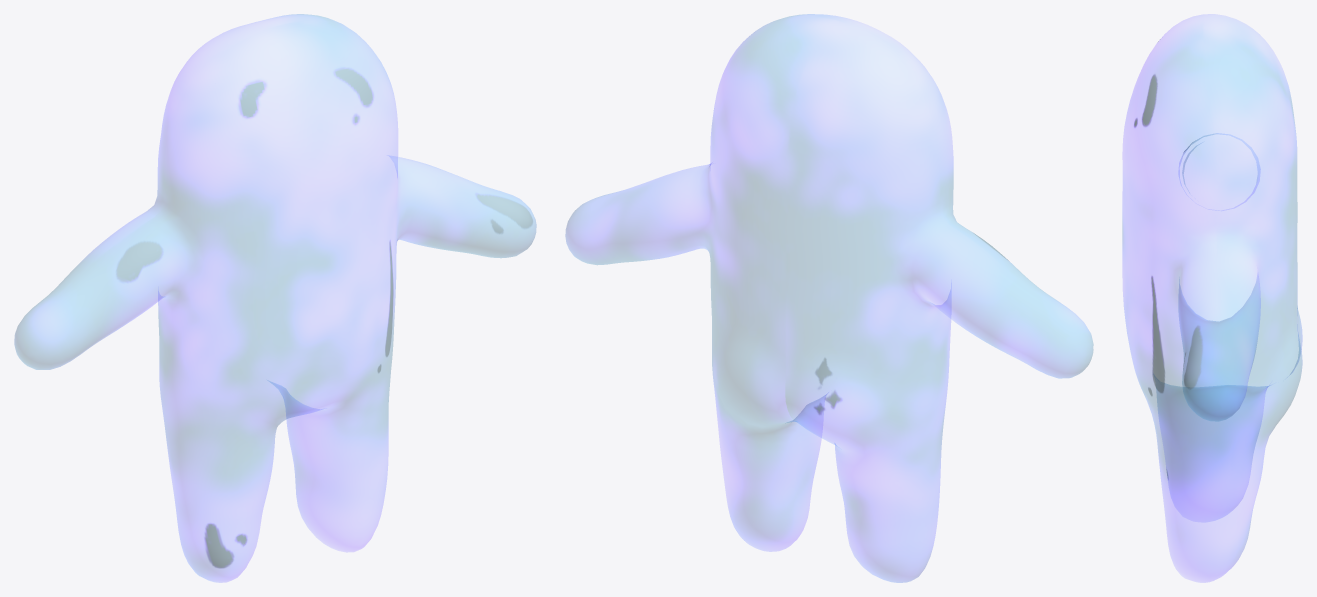
Rendered from AmigoBurbuja.glb.
The picture shows the model from 3 angles, left to right: view 1: azimuth 30°, elevation 25°; view 2: azimuth 150°, elevation 25°; view 3: azimuth 270°, elevation 25°; orthographic projection. The views are drawn at different scales.
Parts seen in each view (by area): view 1: AmigoBurbuja; view 2: AmigoBurbuja; view 3: AmigoBurbuja.
Part boxes in pixels (box(x1,y1,x2,y2)): AmigoBurbuja: box(14, 14, 536, 582); AmigoBurbuja: box(565, 14, 1093, 582); AmigoBurbuja: box(1122, 14, 1302, 582).
Bounding box in the file's own units: 0.0292 × 0.0293 × 0.00918.
Materials: 1 (1 with a texture image).
